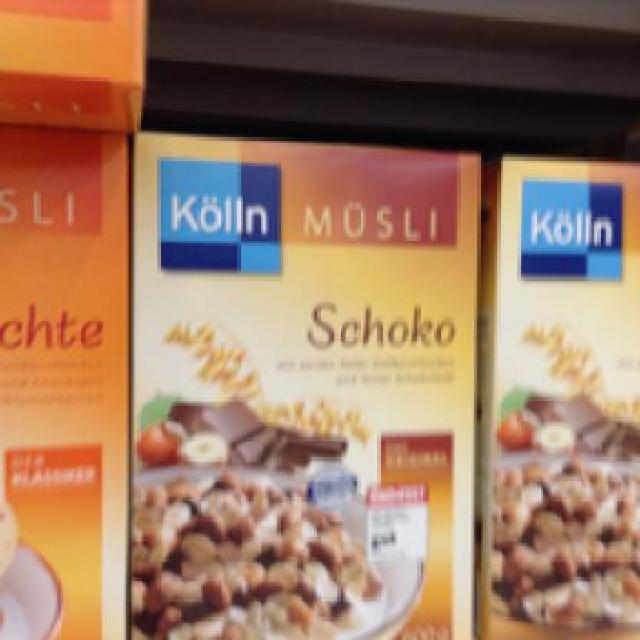Cereal: (128, 132, 468, 638), (480, 145, 634, 638), (0, 126, 123, 634)
